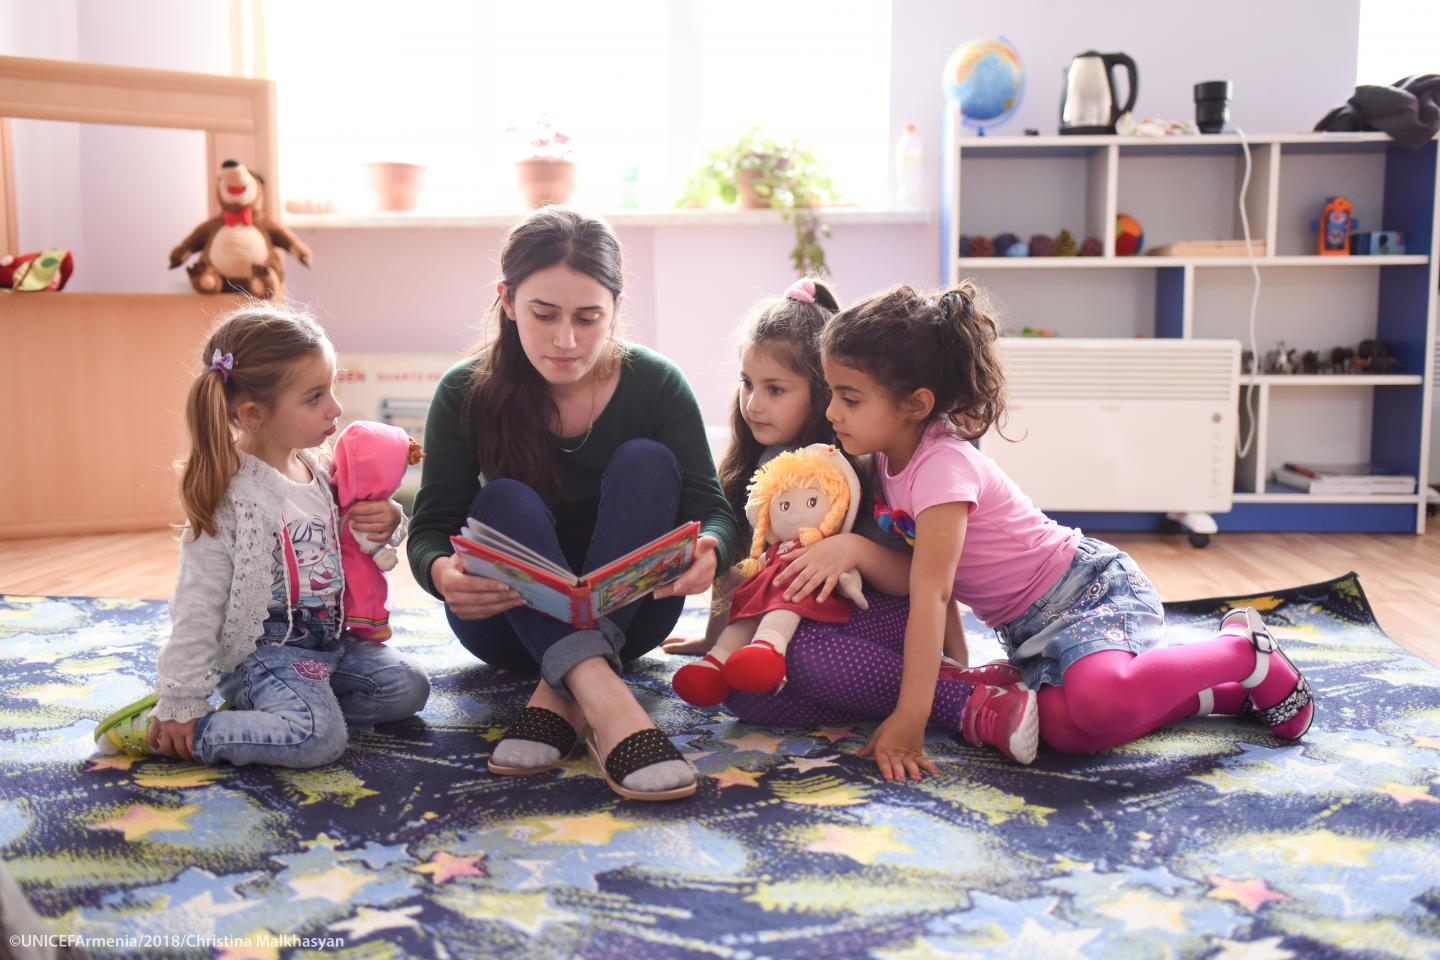human: (792, 246, 1347, 771), (408, 202, 734, 837), (94, 294, 434, 794), (700, 250, 888, 649)
